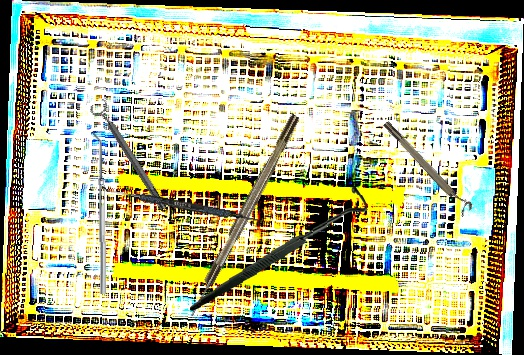Fixation Ring: (88, 97, 172, 215), (381, 116, 475, 217)
Hook Surgical: (182, 184, 374, 312), (185, 113, 303, 318)
Spatula Surgical: (100, 185, 264, 225), (91, 132, 107, 295)
